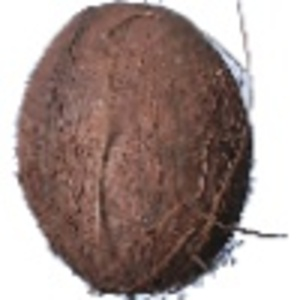coco: (13, 1, 284, 300)
